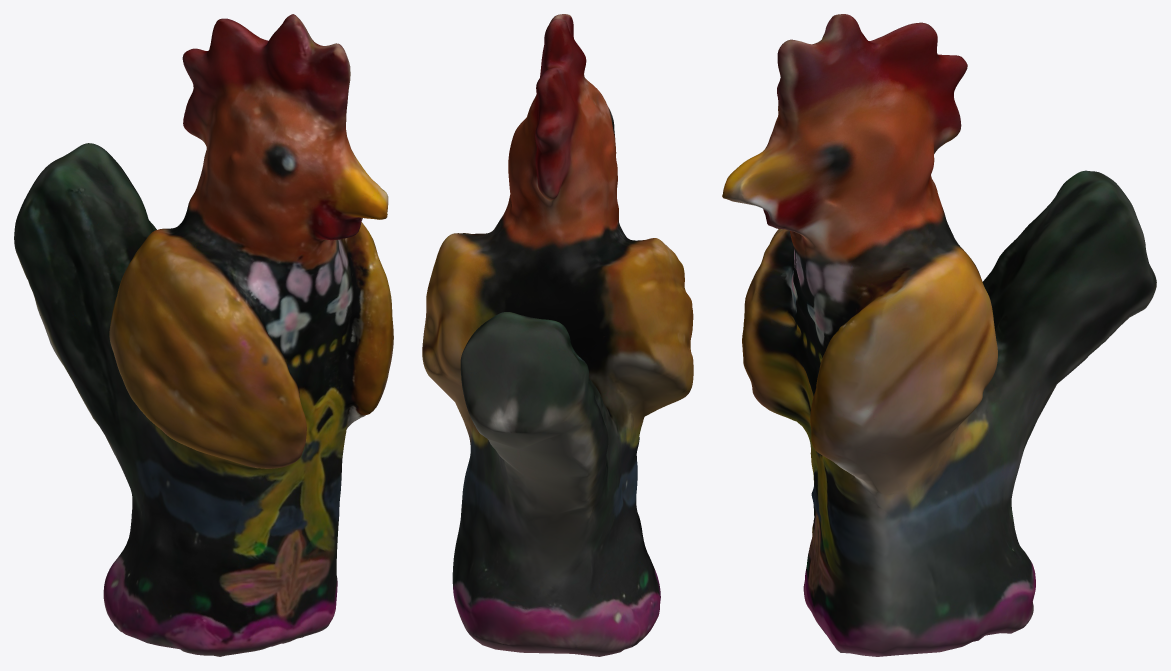
3 renders of one model, left to right at view 1: azimuth 30°, elevation 25°; view 2: azimuth 150°, elevation 25°; view 3: azimuth 270°, elevation 25°, orthographic. The views are drawn at different scales.
Size of the model in its own units: 0.3508 by 0.8023 by 0.5038.
Materials: 1 (1 with a texture image).
